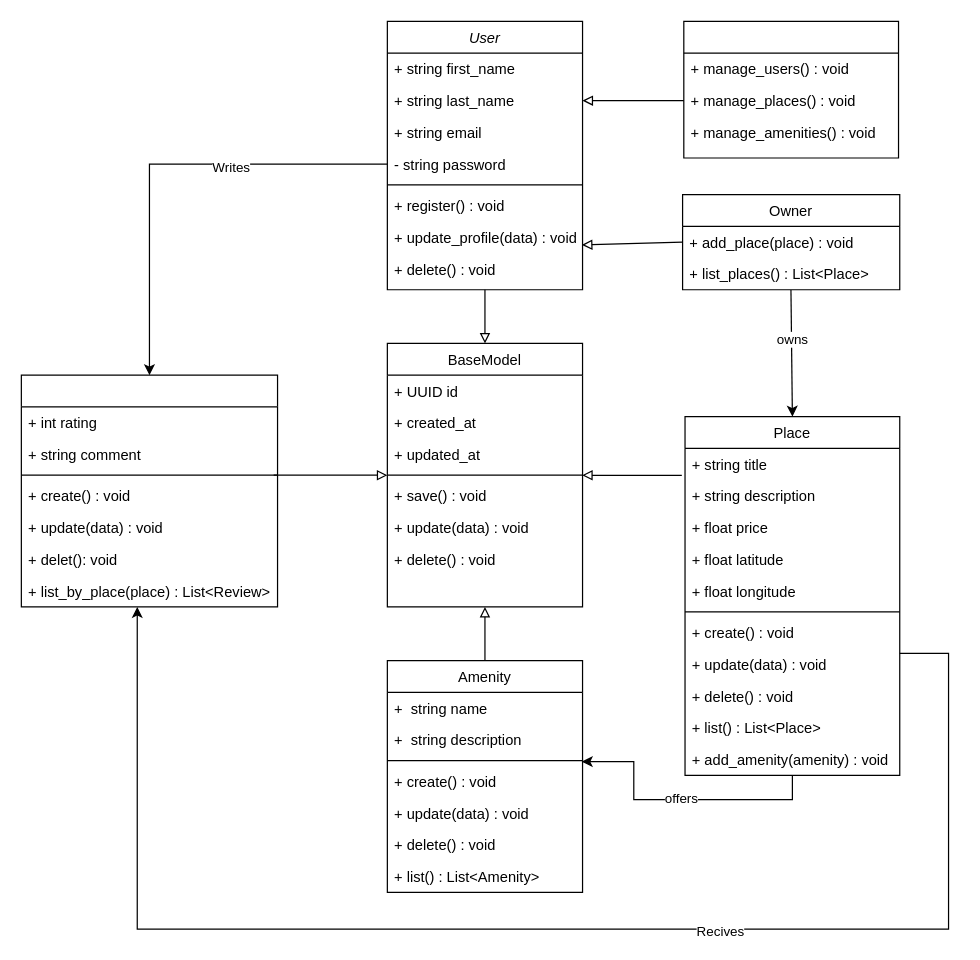
Image size: 980x960. Some labels were removed from this diagram. Each missing label, with the box of its shape:
Admin: (683, 20, 899, 158)
Review: (20, 374, 278, 607)
